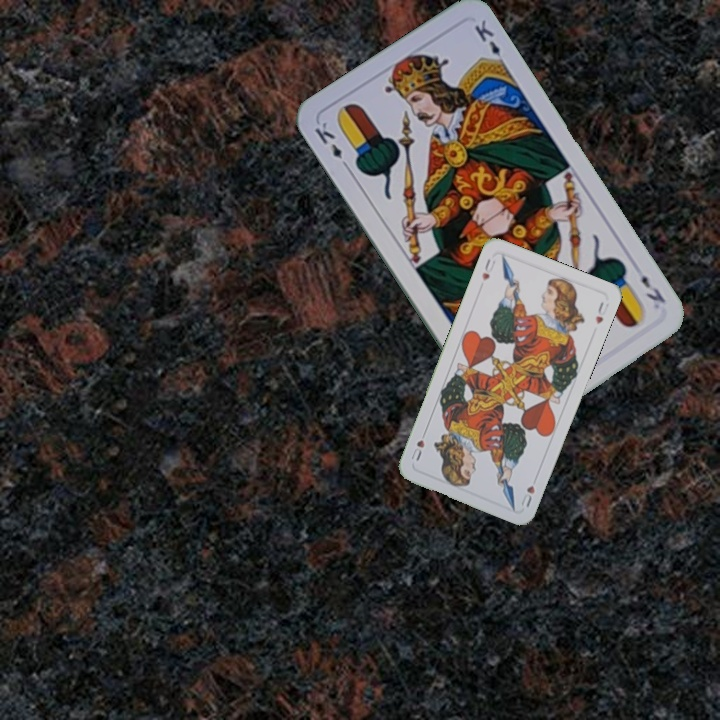EK: (310, 117, 353, 172), (637, 270, 669, 306)
HU: (478, 254, 499, 283), (517, 482, 538, 510)
